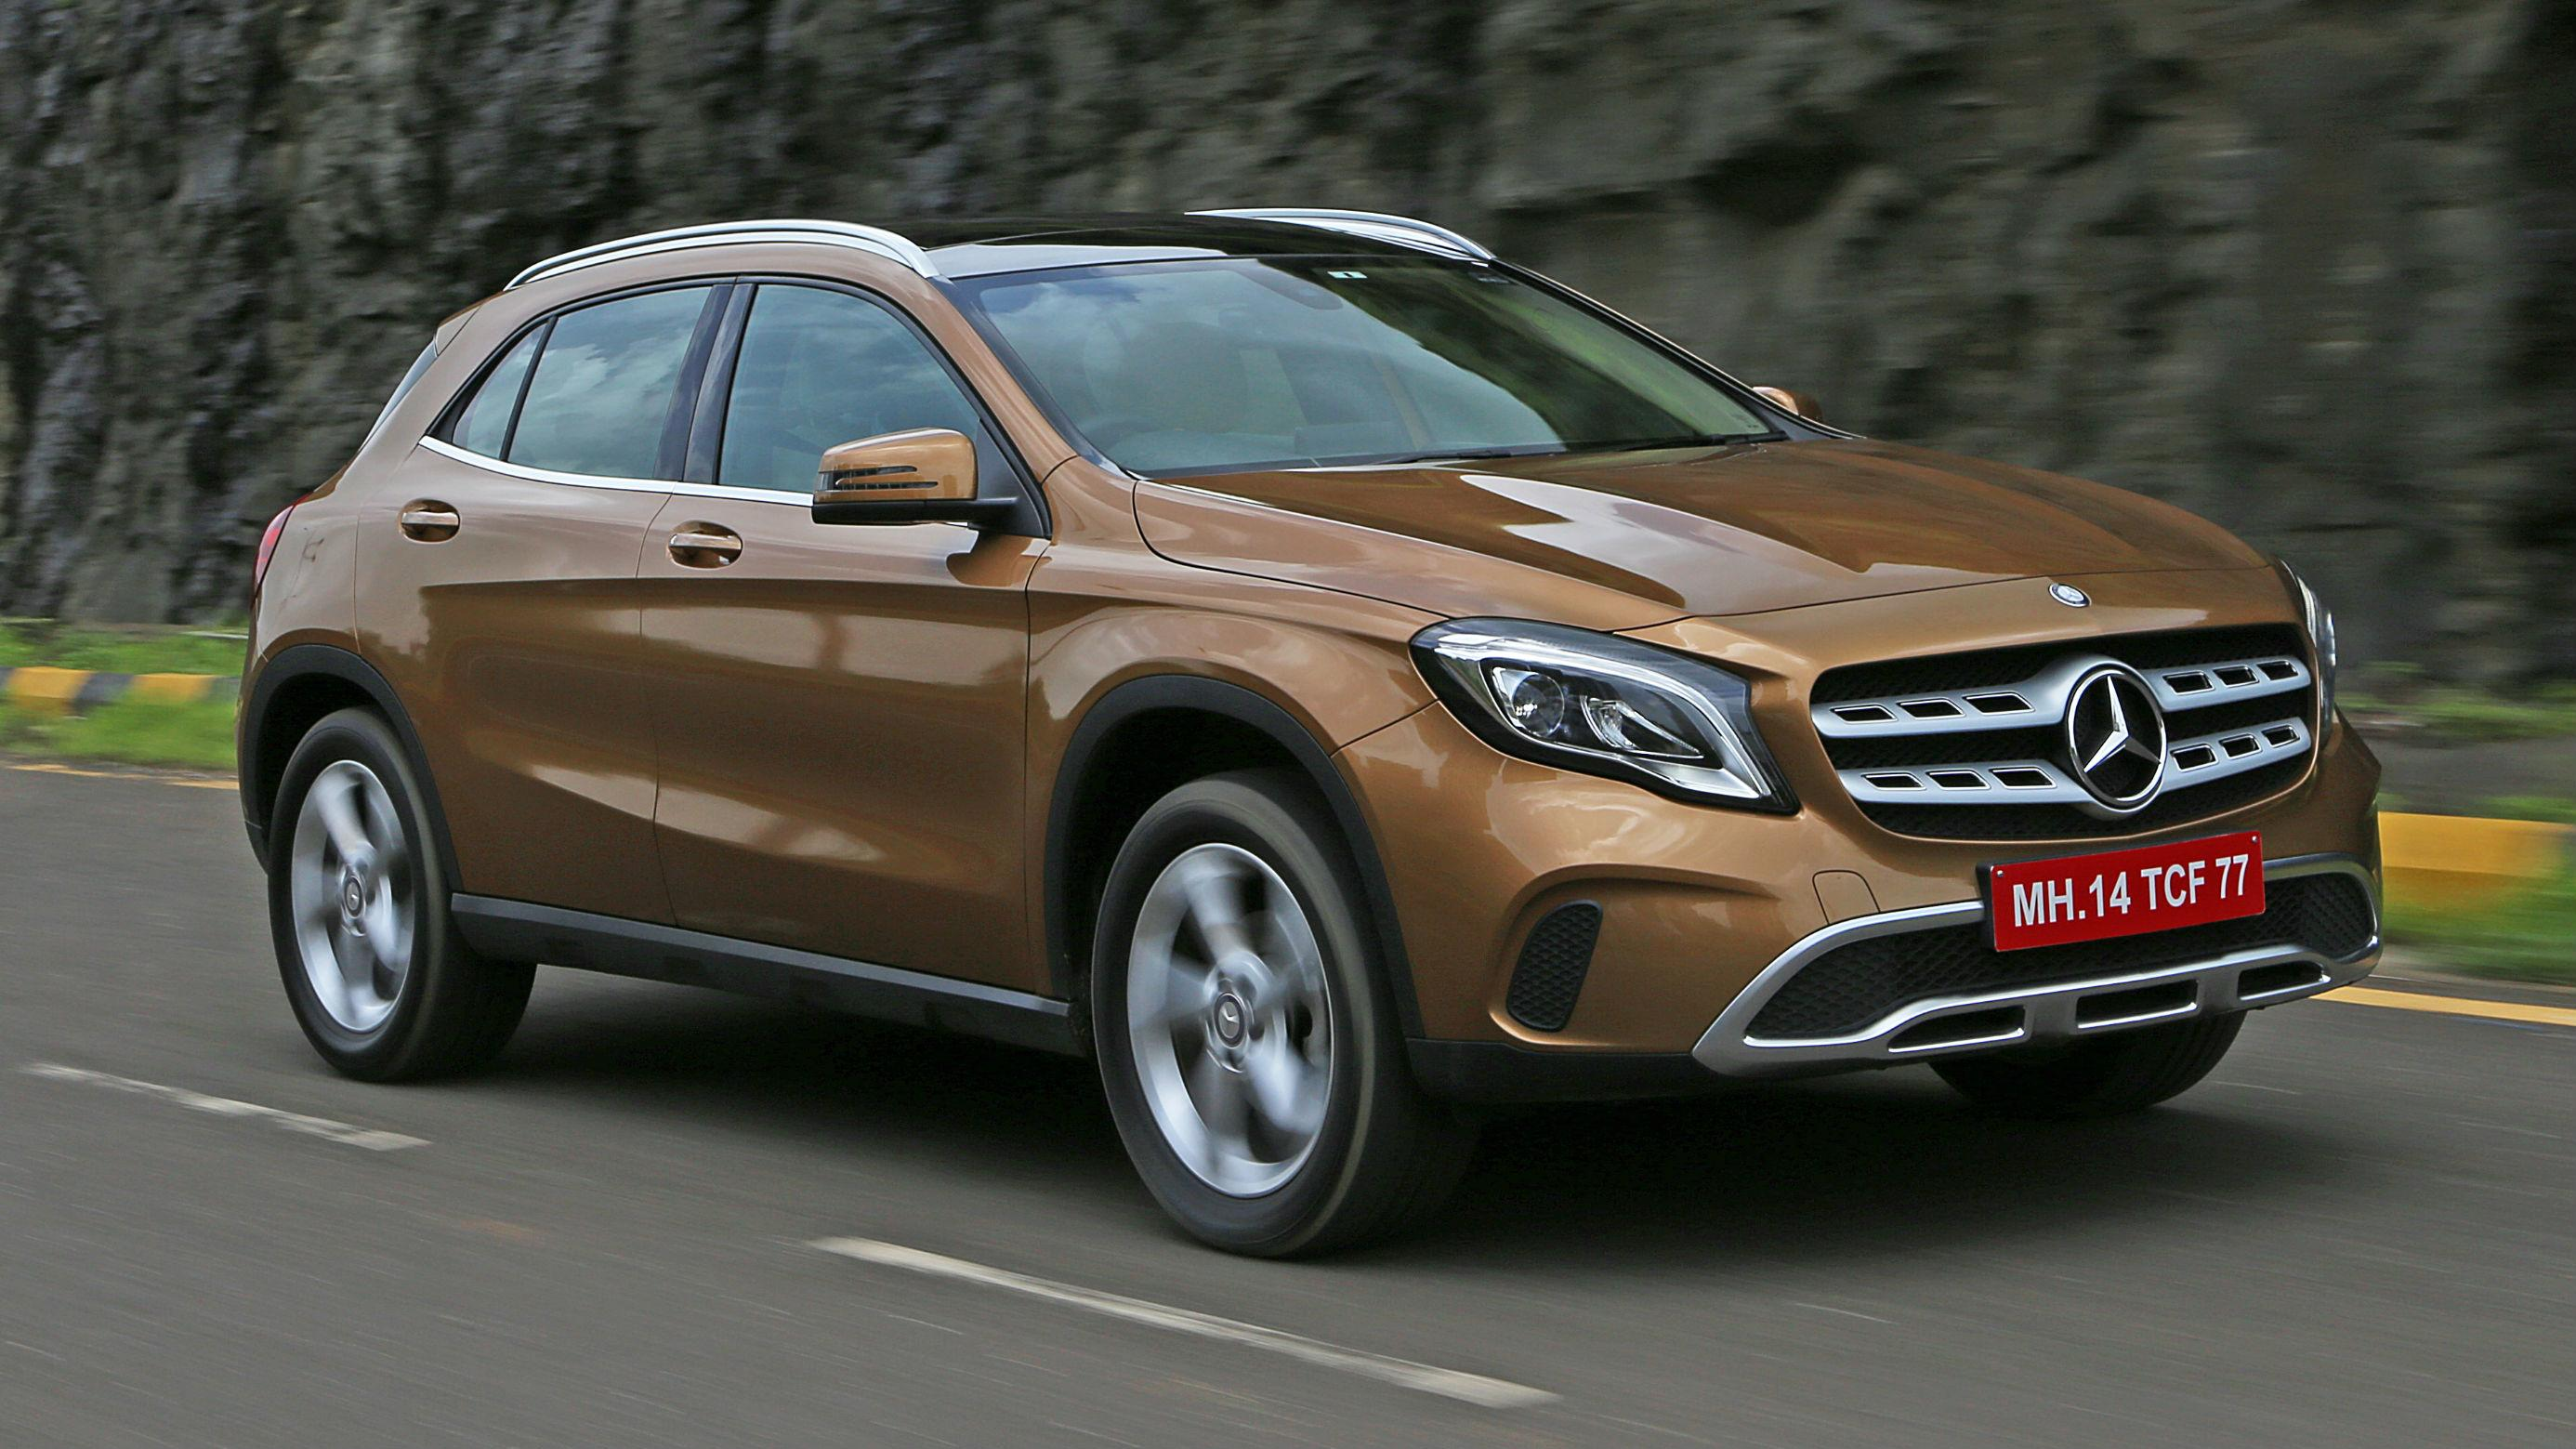gla: (218, 186, 2454, 1325)
